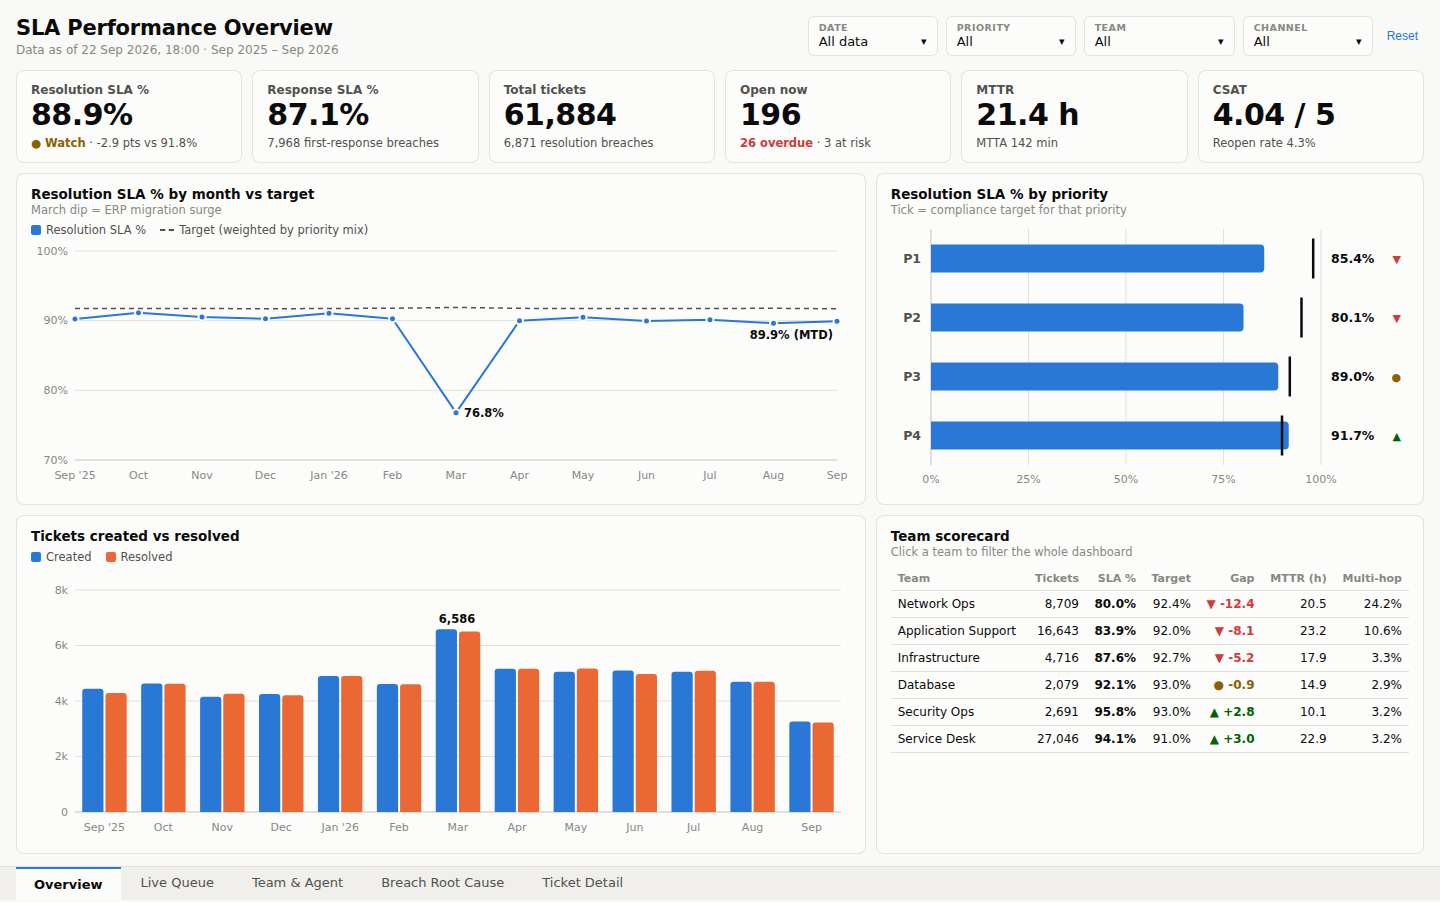

The page's visual inventory and layout, read from the dashboard file:
{"tool":"powerbi","page":{"name":"Overview","canvas":[1280,764],"ordinal":0},"visuals":[{"type":"pageNavigator","box":[16,8,1248,34],"z":1000},{"type":"textbox","box":[12,44,640,46],"z":2000},{"type":"cardVisual","fields":{"Data":["_Measures.As Of Label"]},"box":[12,82,560,30],"z":3000},{"type":"slicer","fields":{"Values":["DimDate.Date"]},"box":[594,46,240,66],"z":4000},{"type":"slicer","fields":{"Values":["DimPriority.Priority"]},"box":[844,46,130,66],"z":5000},{"type":"slicer","fields":{"Values":["DimTeam.Team"]},"box":[984,46,150,66],"z":6000},{"type":"slicer","fields":{"Values":["FactTickets.Channel"]},"box":[1144,46,120,66],"z":7000},{"type":"cardVisual","fields":{"Data":["_Measures.Resolution SLA %"]},"box":[16,116,200,106],"z":8000},{"type":"cardVisual","fields":{"Data":["_Measures.Response SLA %"]},"box":[226,116,200,106],"z":9000},{"type":"cardVisual","fields":{"Data":["_Measures.Total Tickets"]},"box":[435,116,200,106],"z":10000},{"type":"cardVisual","fields":{"Data":["_Measures.Open Tickets"]},"box":[645,116,200,106],"z":11000},{"type":"cardVisual","fields":{"Data":["_Measures.MTTR (hrs)"]},"box":[854,116,200,106],"z":12000},{"type":"cardVisual","fields":{"Data":["_Measures.Avg CSAT"]},"box":[1064,116,200,106],"z":13000},{"type":"lineChart","title":"Resolution SLA % by month vs target","fields":{"Category":["DimDate.MonthLabel"],"Y":["_Measures.Resolution SLA %","_Measures.SLA Target %"]},"box":[16,230,760,258],"z":14000},{"type":"lineClusteredColumnComboChart","title":"Resolution SLA % by priority","fields":{"Category":["DimPriority.PriorityShort"],"Y":["_Measures.Resolution SLA %"],"Y2":["_Measures.SLA Target %"]},"box":[786,230,478,258],"z":15000},{"type":"clusteredColumnChart","title":"Tickets created vs resolved","fields":{"Category":["DimDate.MonthLabel"],"Y":["_Measures.Total Tickets","_Measures.Tickets Resolved (Resolved Date)"]},"box":[16,498,760,258],"z":16000},{"type":"tableEx","title":"Team scorecard","fields":{"Values":["DimTeam.Team","_Measures.Total Tickets","_Measures.Resolution SLA %","_Measures.SLA Target %","_Measures.SLA Gap Label","_Measures.MTTR (hrs)","_Measures.Multi-Hop %"]},"box":[786,498,478,258],"z":17000}]}

Visuals, with their boxes on the page's 1280x764 design canvas (x1, y1, x2, y2). These are canvas units, not pixel positions in the 1440x902 screenshot, which may show the page scaled, cropped or inside an application window:
pageNavigator: {"left": 16, "top": 8, "right": 1264, "bottom": 42}
textbox: {"left": 12, "top": 44, "right": 652, "bottom": 90}
cardVisual - _Measures.As Of Label: {"left": 12, "top": 82, "right": 572, "bottom": 112}
slicer - DimDate.Date: {"left": 594, "top": 46, "right": 834, "bottom": 112}
slicer - DimPriority.Priority: {"left": 844, "top": 46, "right": 974, "bottom": 112}
slicer - DimTeam.Team: {"left": 984, "top": 46, "right": 1134, "bottom": 112}
slicer - FactTickets.Channel: {"left": 1144, "top": 46, "right": 1264, "bottom": 112}
cardVisual - _Measures.Resolution SLA %: {"left": 16, "top": 116, "right": 216, "bottom": 222}
cardVisual - _Measures.Response SLA %: {"left": 226, "top": 116, "right": 426, "bottom": 222}
cardVisual - _Measures.Total Tickets: {"left": 435, "top": 116, "right": 635, "bottom": 222}
cardVisual - _Measures.Open Tickets: {"left": 645, "top": 116, "right": 845, "bottom": 222}
cardVisual - _Measures.MTTR (hrs): {"left": 854, "top": 116, "right": 1054, "bottom": 222}
cardVisual - _Measures.Avg CSAT: {"left": 1064, "top": 116, "right": 1264, "bottom": 222}
"Resolution SLA % by month vs target" lineChart: {"left": 16, "top": 230, "right": 776, "bottom": 488}
"Resolution SLA % by priority" lineClusteredColumnComboChart: {"left": 786, "top": 230, "right": 1264, "bottom": 488}
"Tickets created vs resolved" clusteredColumnChart: {"left": 16, "top": 498, "right": 776, "bottom": 756}
"Team scorecard" tableEx: {"left": 786, "top": 498, "right": 1264, "bottom": 756}
